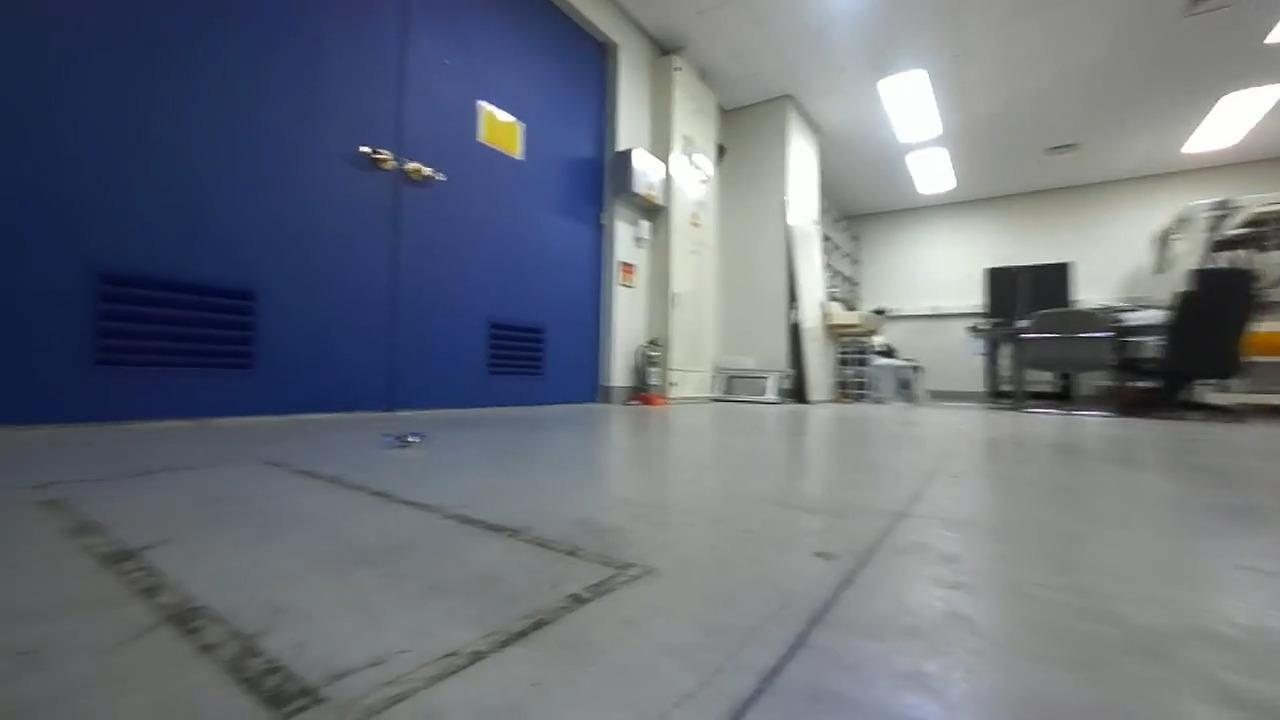crazyflie: (372, 422, 440, 456)
